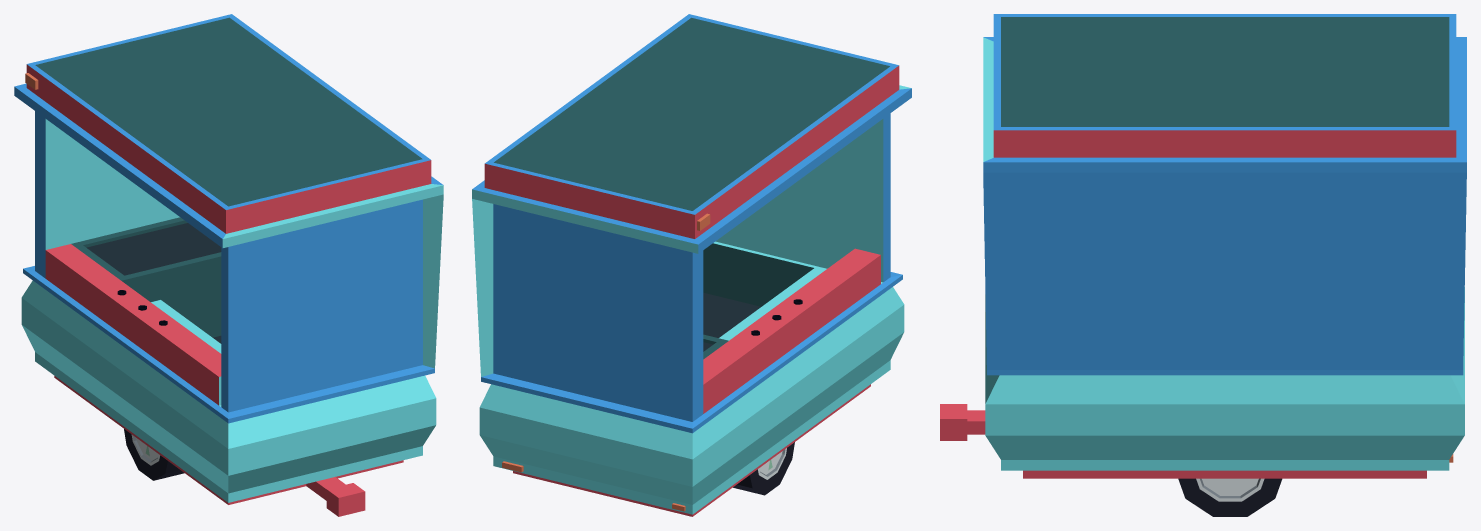
File: Building_CottonCandyStand.fbx
3 renders of one model, left to right at view 1: azimuth 30°, elevation 25°; view 2: azimuth 150°, elevation 25°; view 3: azimuth 270°, elevation 25°, orthographic. The views are drawn at different scales.
Visible parts, largest first — view 1: Cube.016, Cylinder.055; view 2: Cube.016, Cylinder.055; view 3: Cube.016, Cylinder.056.
Part boxes in pixels (x1,y1,x2,y2): Cube.016: [14, 14, 443, 516]; Cylinder.055: [124, 429, 184, 480]; Cube.016: [472, 14, 911, 516]; Cylinder.055: [733, 442, 794, 495]; Cube.016: [940, 14, 1466, 478]; Cylinder.056: [1178, 478, 1282, 516].
Size of the model in its own units: 166 by 248 by 296.
